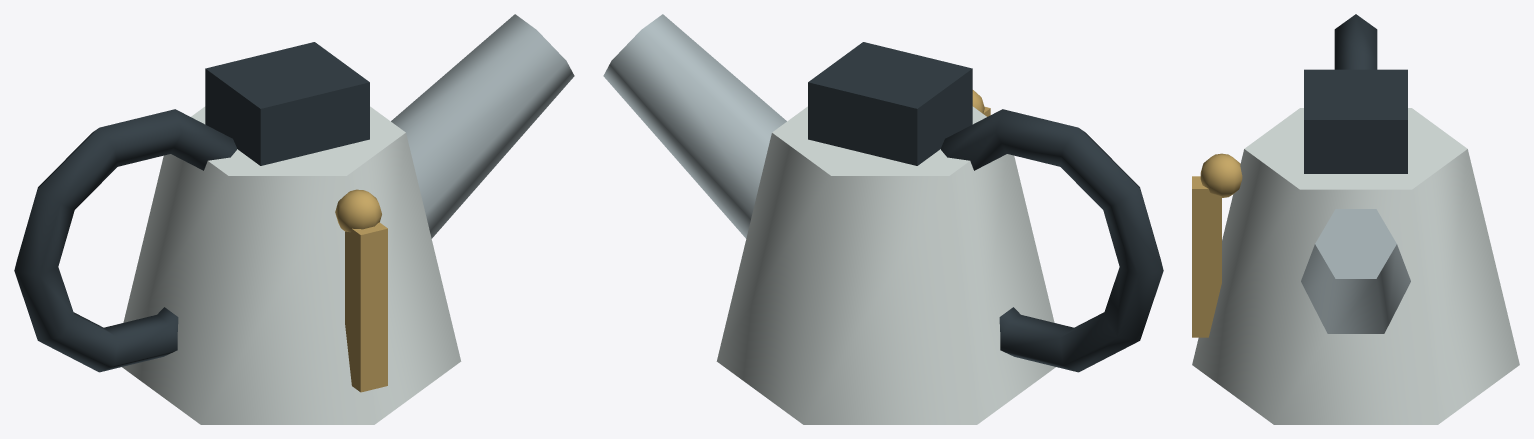
File: fixed-rimeUrn.glb
3 renders of one model, left to right at view 1: azimuth 30°, elevation 25°; view 2: azimuth 150°, elevation 25°; view 3: azimuth 270°, elevation 25°, orthographic. The views are drawn at different scales.
Parts seen in each view (by area): view 1: piece_whole; view 2: piece_whole; view 3: piece_whole.
Boxes of the visible parts, x1,y1,x2,y2 form: piece_whole: (14, 14, 574, 424); piece_whole: (603, 14, 1163, 424); piece_whole: (1192, 14, 1519, 424).
Size of the model in its own units: 0.8041 by 0.4 by 0.44.
